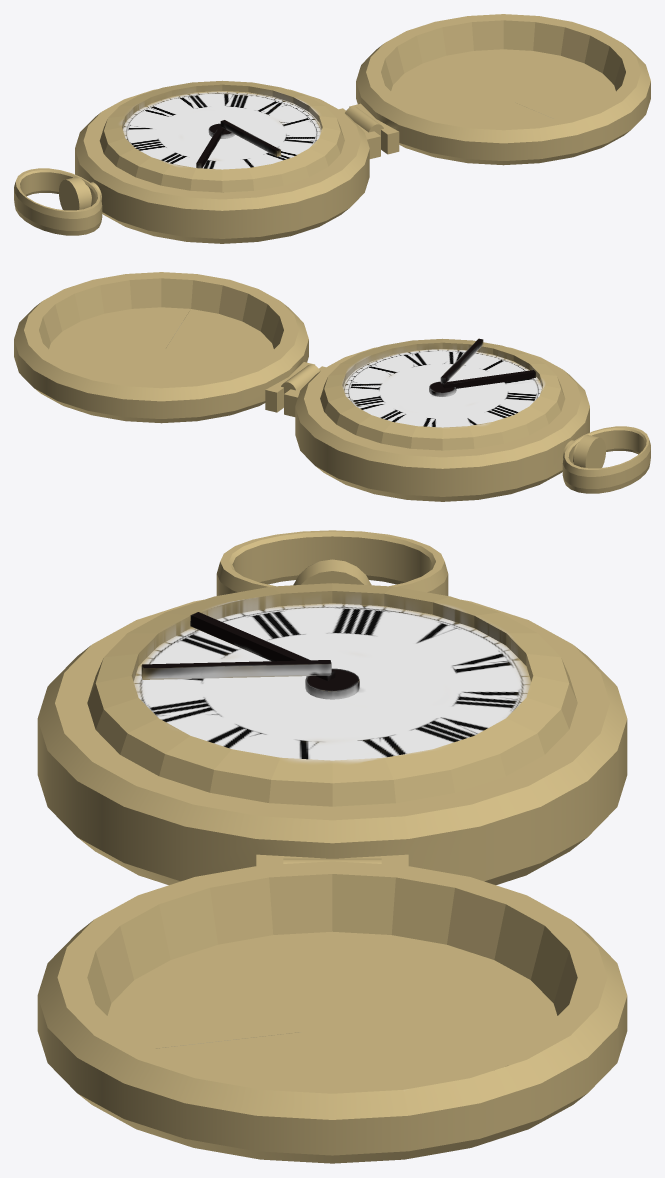
File: pocketwatch_sm.fbx
3 views of the same model, one above another, from view 1: azimuth 30°, elevation 25°; view 2: azimuth 150°, elevation 25°; view 3: azimuth 270°, elevation 25° (orthographic). The views are drawn at different scales.
Visible parts, largest first — view 1: pw_sm; view 2: pw_sm; view 3: pw_sm.
Boxes of the visible parts, <box> form: pw_sm: <box>14,14,650,243</box>; pw_sm: <box>14,272,650,501</box>; pw_sm: <box>37,530,627,1163</box>.
Bounding box in the file's own units: 10.54 × 1.13 × 4.44.
1 material, 1 textured.
